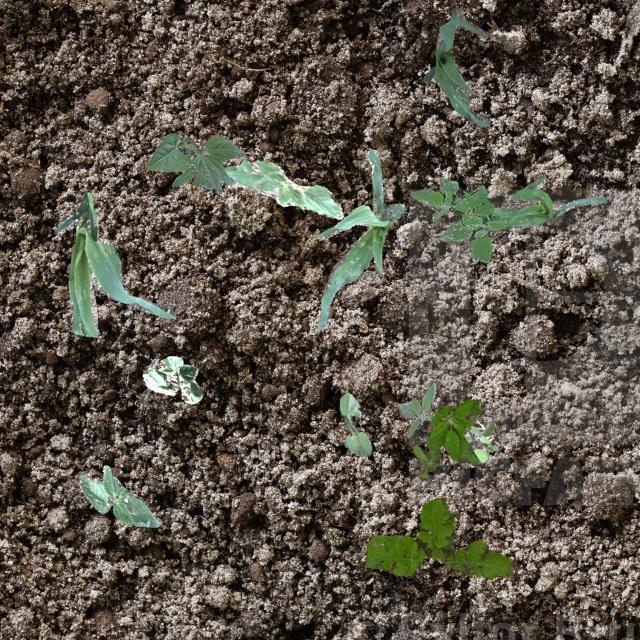crop: (56, 192, 174, 336), (316, 148, 404, 328), (422, 8, 490, 126), (224, 160, 342, 218), (146, 132, 244, 192), (490, 176, 606, 226), (78, 464, 160, 526), (142, 356, 202, 402), (338, 392, 371, 456)
weed: (364, 497, 514, 578), (410, 176, 510, 262), (412, 398, 479, 479), (170, 136, 212, 190), (398, 382, 434, 436), (462, 416, 498, 462)
